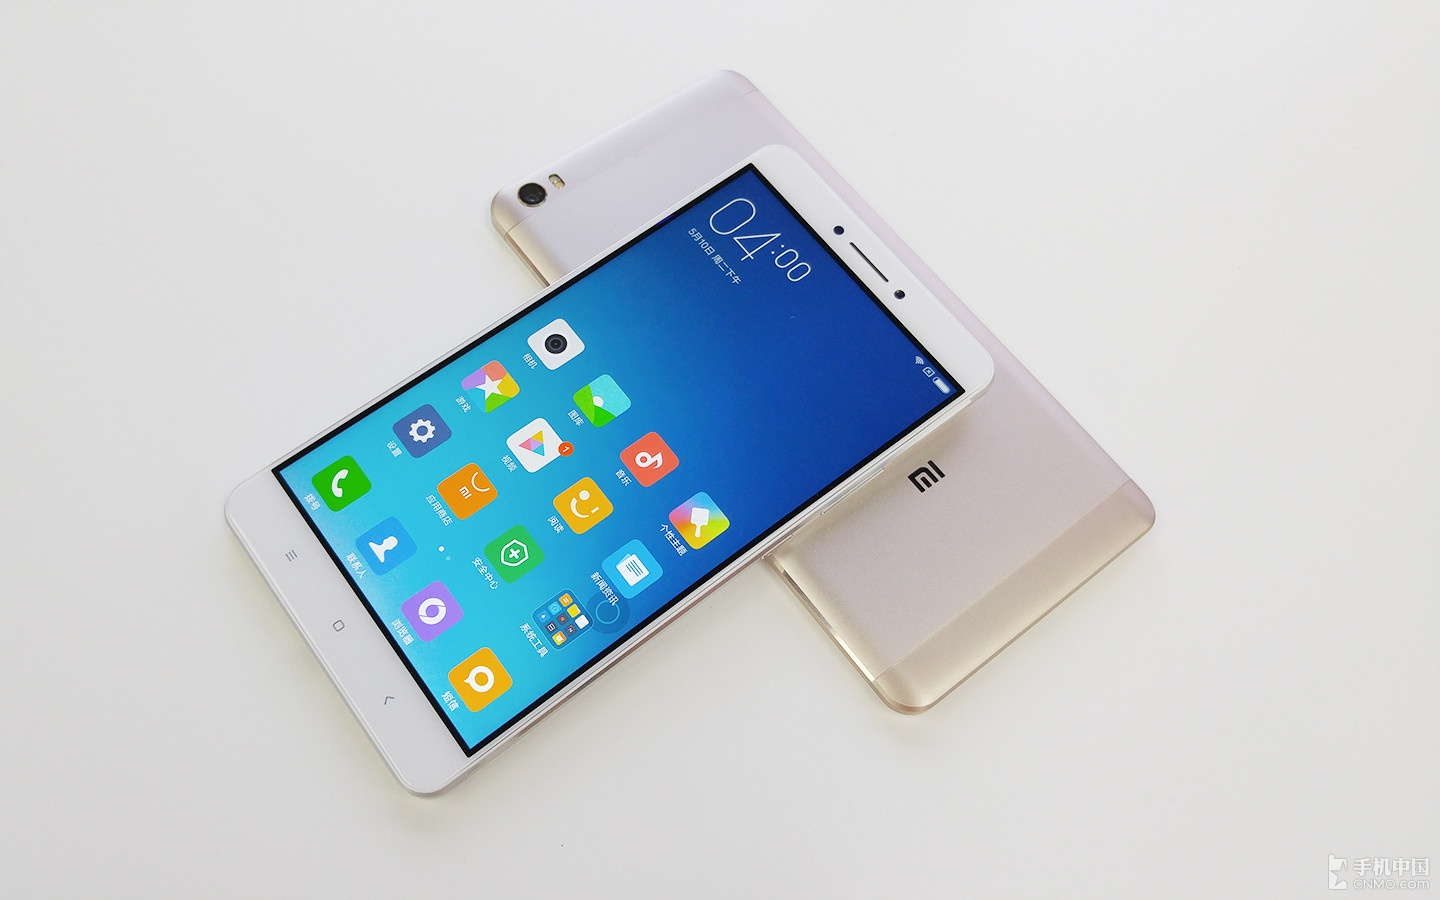smartphone: (226, 142, 997, 799), (490, 71, 1157, 715)
